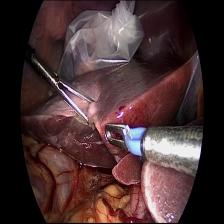Bipolar: (104, 118, 151, 166)
Grasper: (32, 56, 95, 128)
Specimen Bag: (57, 0, 143, 79)
